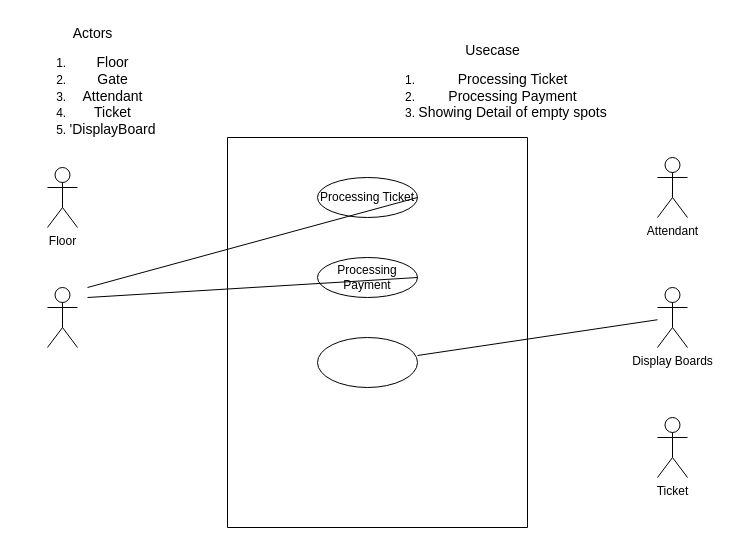
This 730x545 diagram has some shape labels left out. Each missing label, with the centre of its shape:
Gate: the point at 62,317
Showing Detail of Empty Spots: the point at 367,362
